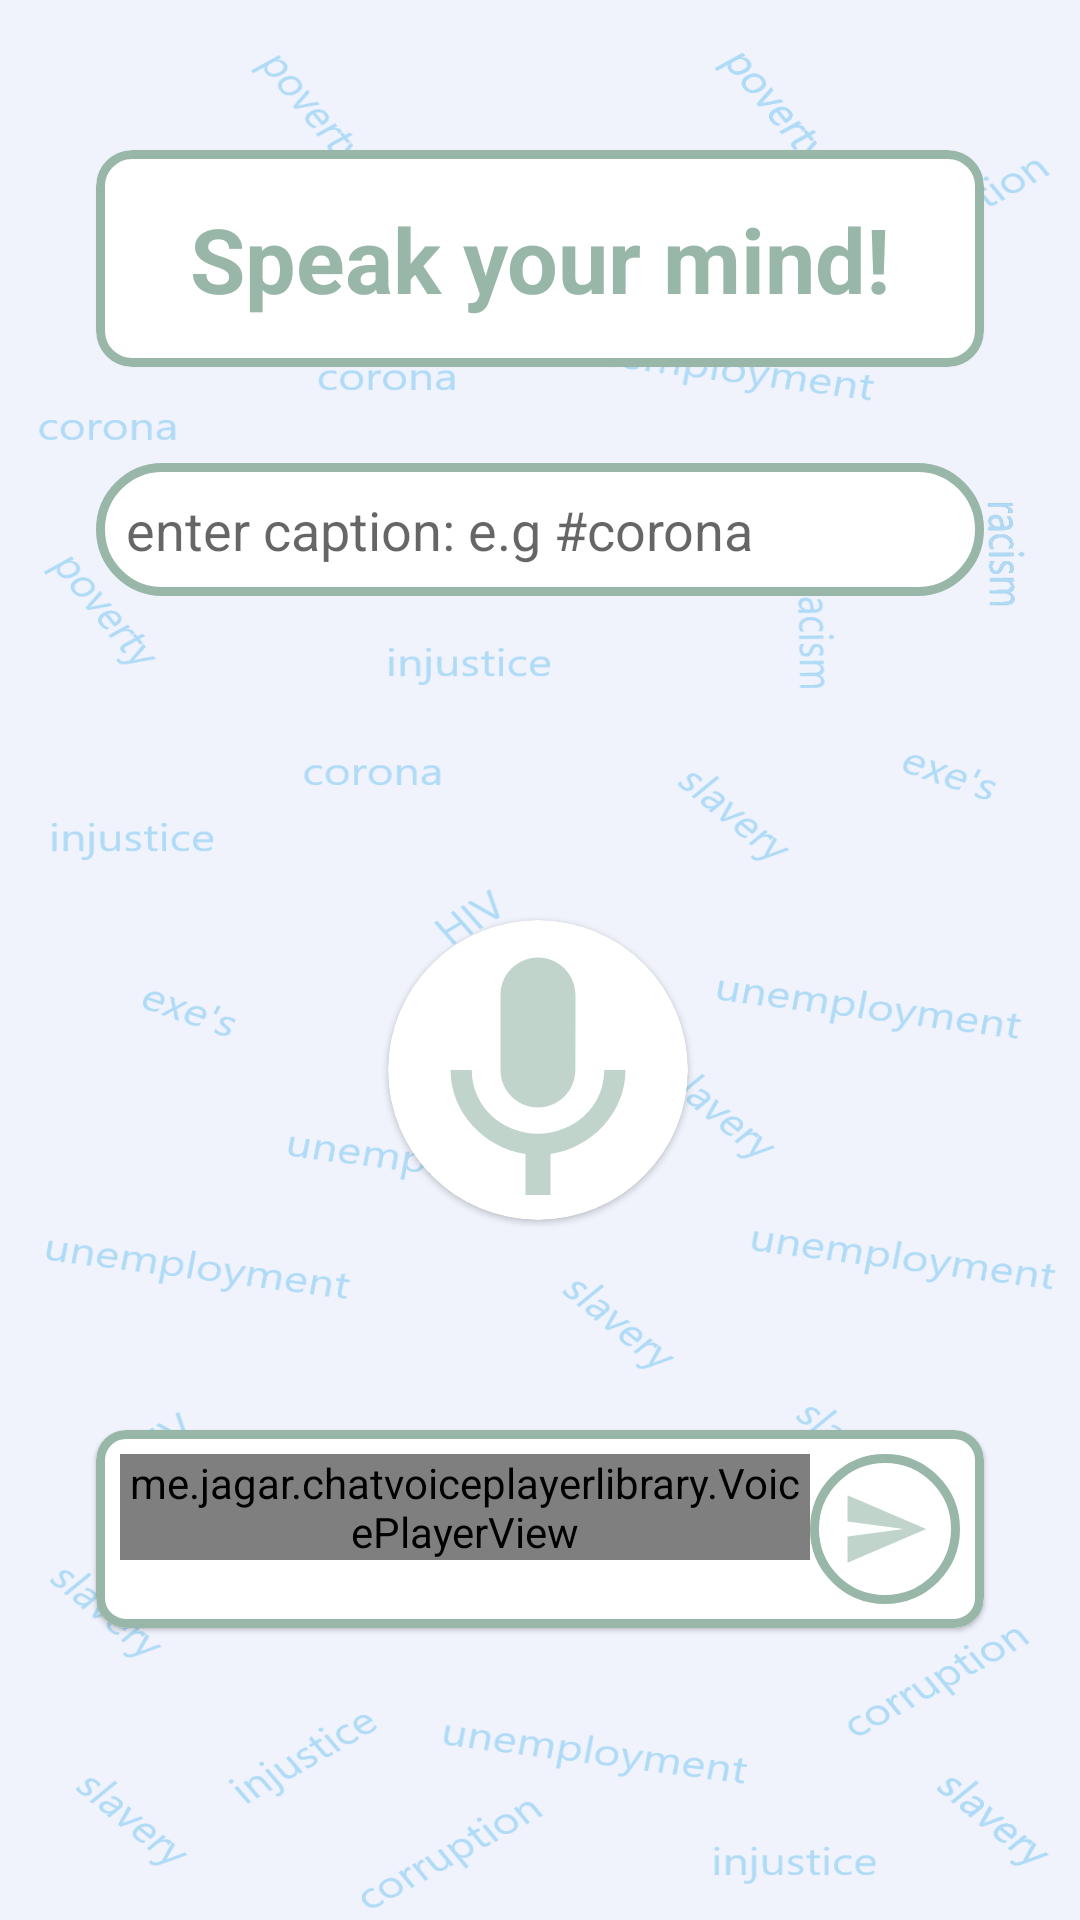

Icon bounding boxes for this 1080px x 1920px phone screenshot, format [left=x1, top=y1, right=x2, bottom=y2]:
record: [left=388, top=920, right=688, bottom=1220]
